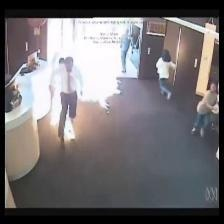fire: (32, 18, 131, 145)
